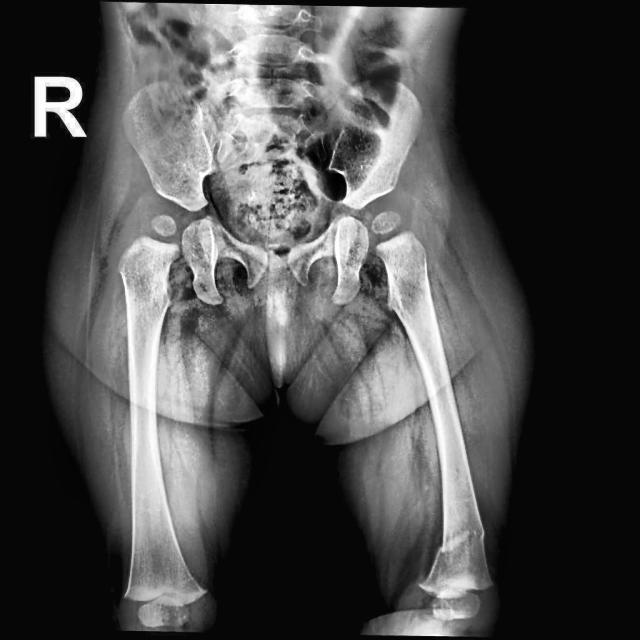line: (435, 525, 487, 559)
